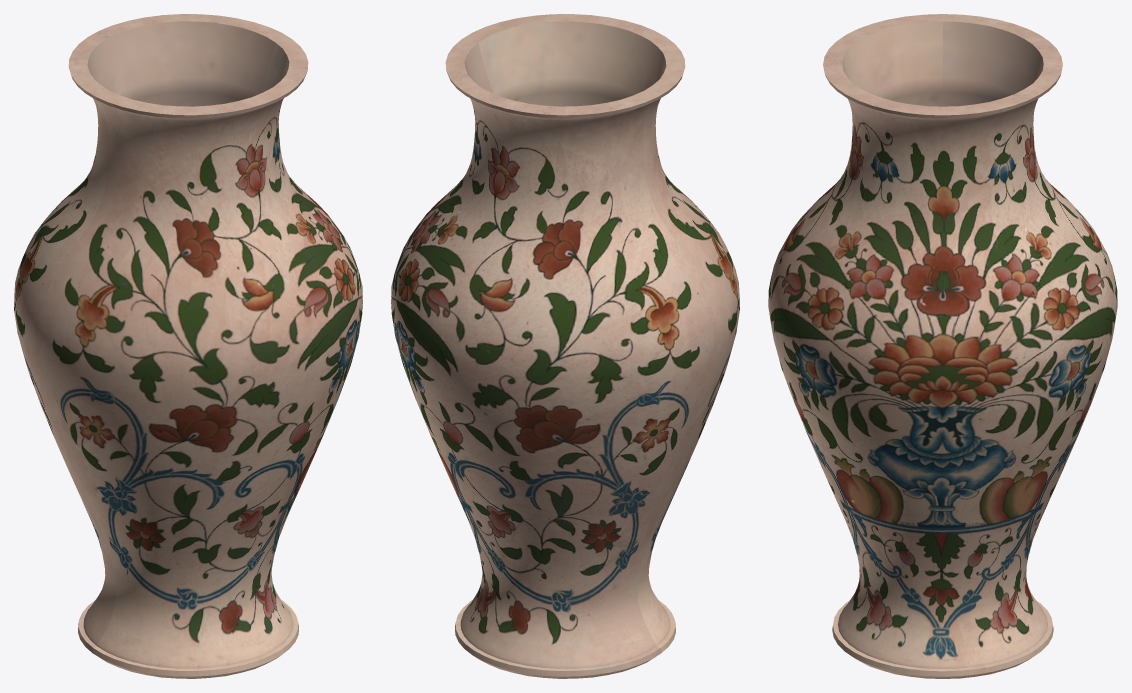
File: Vase.fbx
The picture shows the model from 3 angles, left to right: view 1: azimuth 30°, elevation 25°; view 2: azimuth 150°, elevation 25°; view 3: azimuth 270°, elevation 25°; orthographic projection.
Visible parts, largest first — view 1: pCylinder2; view 2: pCylinder2; view 3: pCylinder2.
Part boxes in pixels (x1,y1,x2,y2): pCylinder2: [14, 14, 362, 678]; pCylinder2: [391, 14, 739, 678]; pCylinder2: [768, 14, 1117, 678].
Size of the model in its own units: 2.99 by 5.42 by 2.99.
